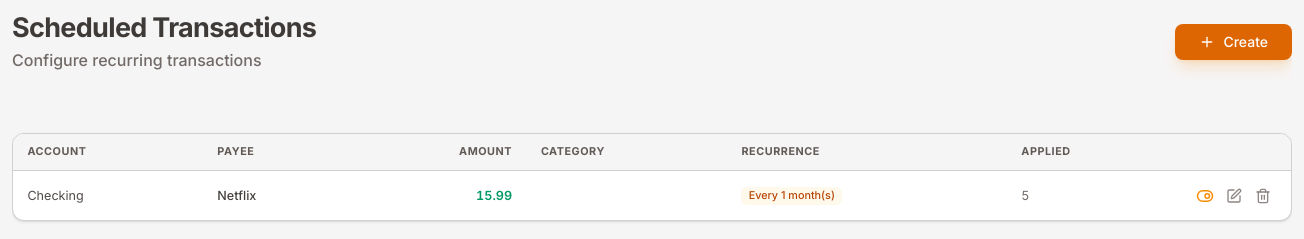
Test: ScheduledList › shows context menu with toggle/edit/delete on right-click
Expected: the text "Netflix" is shown, top-left (217, 188), bottom-right (256, 203)
Right-click the row "Checking Netflix 15.99 Every 1 month(s) 5" at {"x": 56, "y": 195}, box top-left (13, 171), bottom-right (1291, 220)
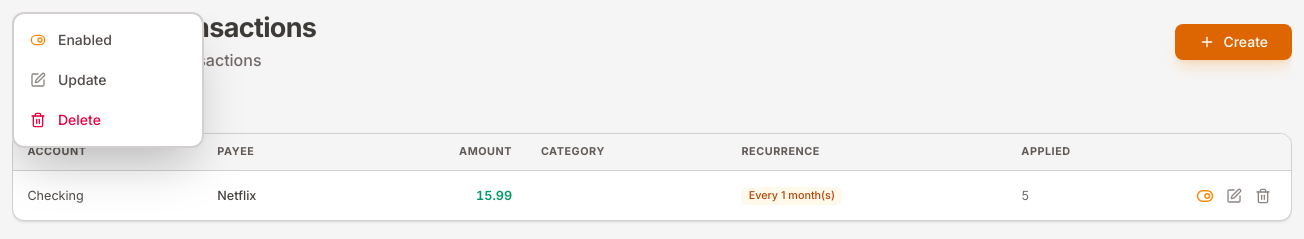
Expected: the element showing "Enabled Update Delete" is shown, top-left (12, 12), bottom-right (204, 148)
